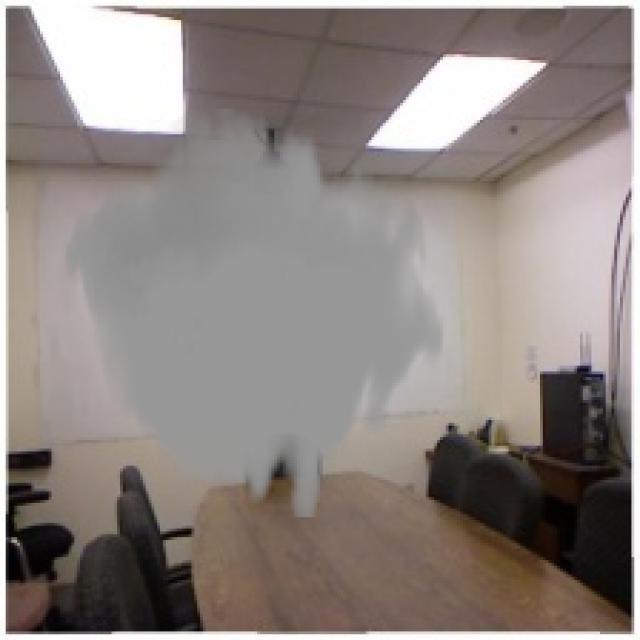smoke: (63, 109, 446, 517)
